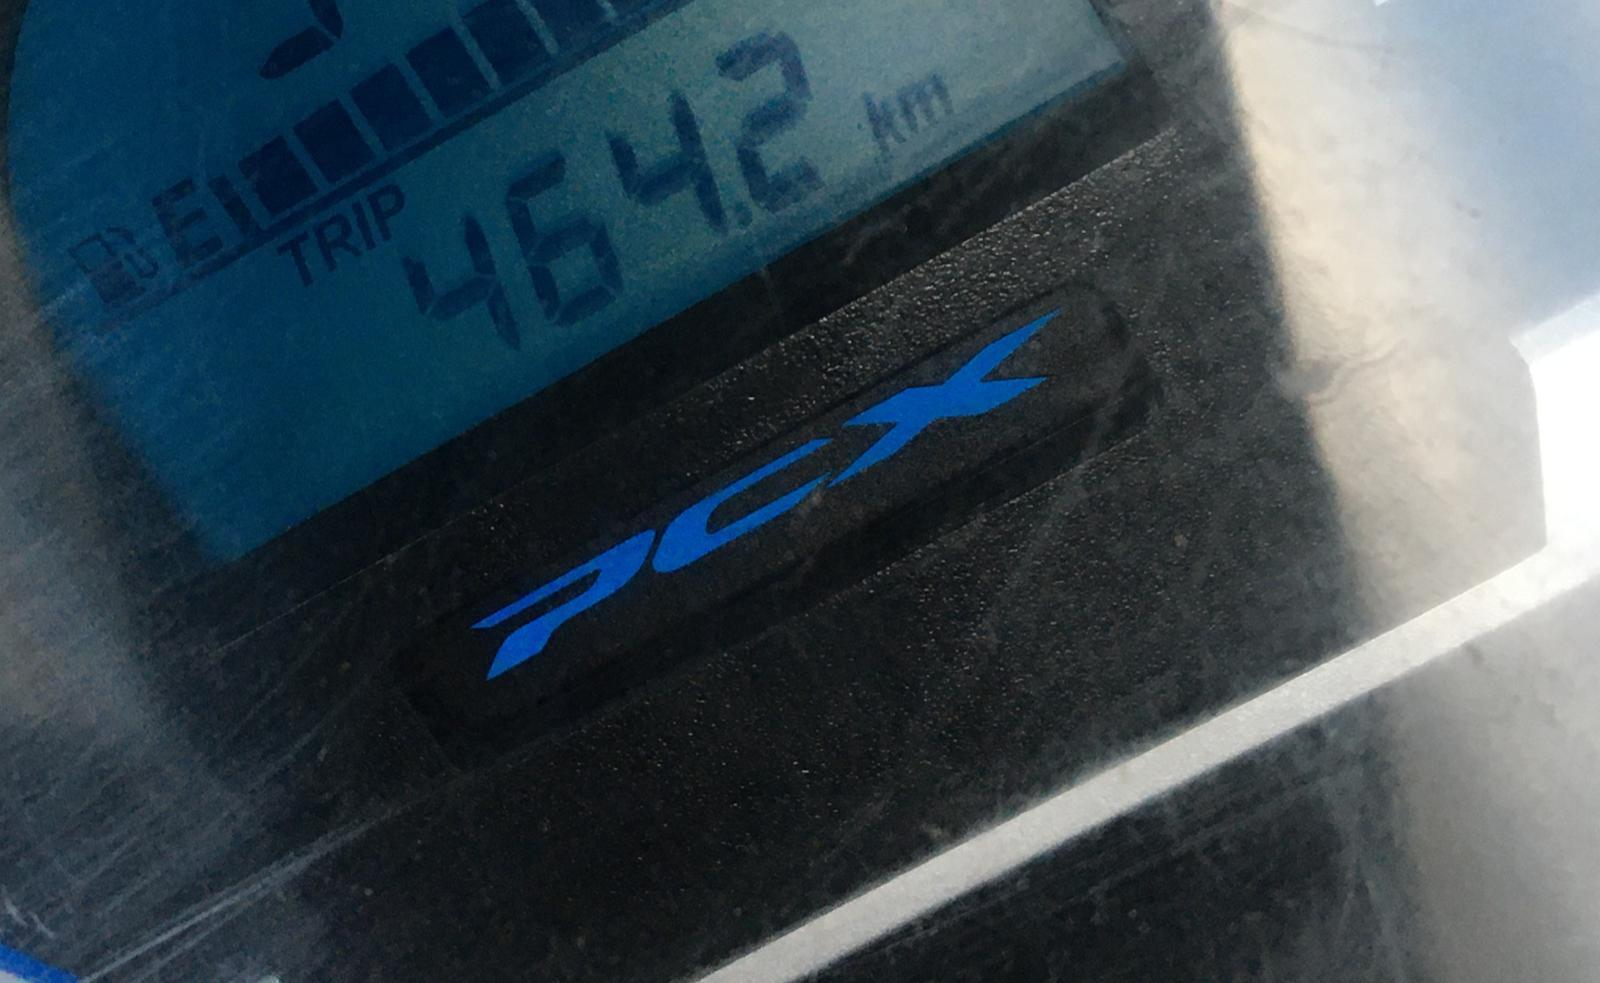,: (728, 193, 758, 235)
2: (719, 19, 831, 207)
4: (606, 94, 729, 238), (407, 217, 519, 363)
6: (497, 147, 630, 349)
X: (137, 171, 223, 270), (857, 86, 912, 155), (894, 72, 955, 128), (311, 211, 360, 271), (271, 233, 320, 287), (370, 182, 413, 241), (349, 194, 379, 258)
odometer: (0, 0, 1131, 588)
